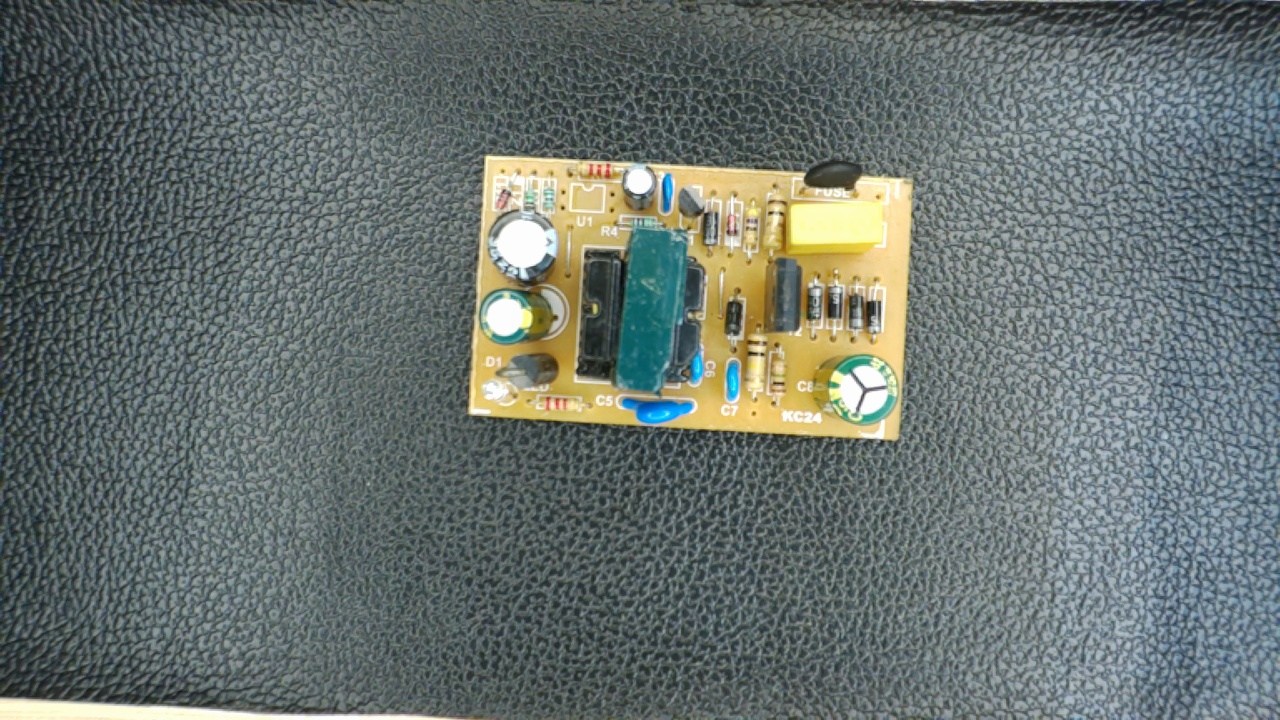fuse: (788, 156, 872, 204)
hv_capacitor: (812, 348, 902, 431)
mov: (612, 384, 701, 429)
